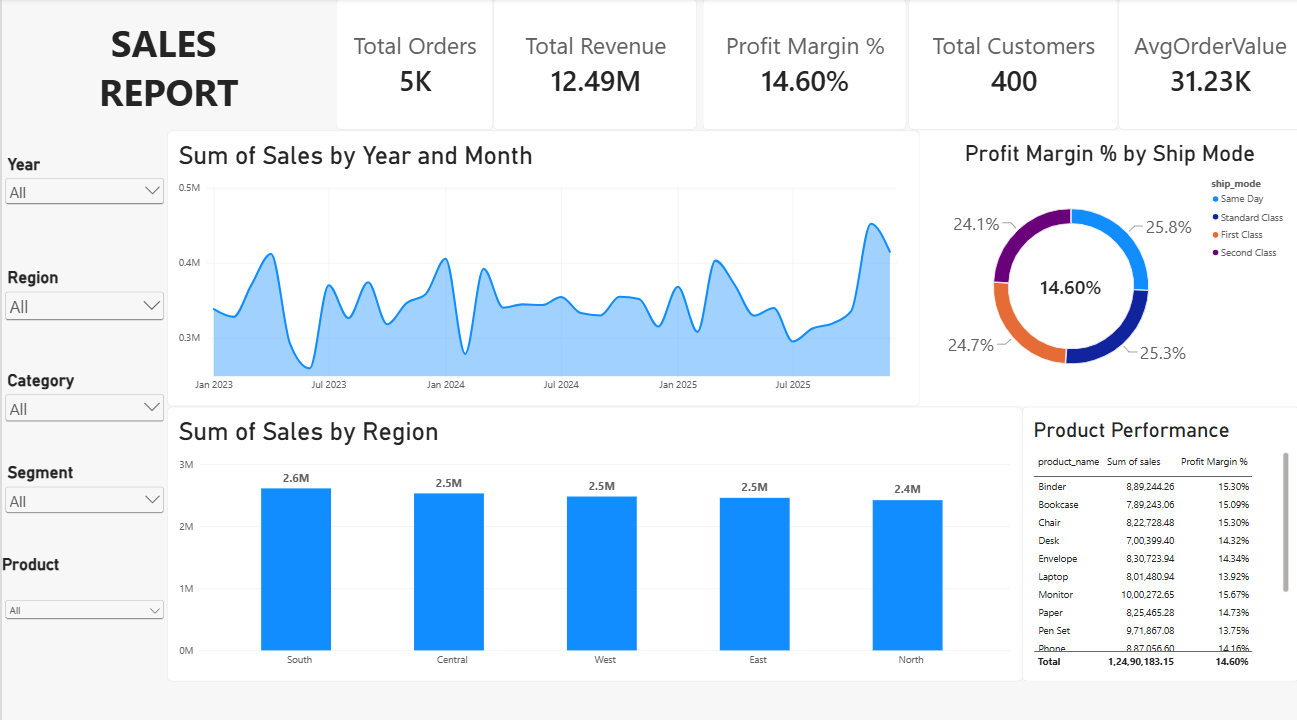

The page's visual inventory and layout, read from the dashboard file:
{"tool":"powerbi","page":{"name":"Sales Dashboard","canvas":[1920,1080],"ordinal":0},"visuals":[{"type":"cardVisual","fields":{"Data":["Sales_db   main   Sales.Total Orders"]},"box":[482.6,0,228.5,191.4],"z":0},{"type":"cardVisual","fields":{"Data":["Sales_db   main   Sales.Total Revenue","Sales_db   main   Sales.Profit Margin %"]},"box":[712,0,599,191.4],"z":1000},{"type":"cardVisual","fields":{"Data":["Sales_db   main   Sales.Total Customers"]},"box":[1311.3,0,304.6,191.8],"z":2000},{"type":"cardVisual","fields":{"Data":["Sales_db   main   Sales.AvgOrderValue"]},"box":[1615.8,0,265.5,191.4],"z":3000},{"type":"stackedAreaChart","title":"Sum of Sales by Year and Month","fields":{"Category":["Sales_db   main   Sales.order_date.Variation.Date Hierarchy.Year","Sales_db   main   Sales.order_date.Variation.Date Hierarchy.Month"],"Y":["Sum(Sales_db   main   Sales.sales)"]},"box":[239.3,191.8,1089.7,399.5],"z":6000},{"type":"donutChart","title":"Profit Margin % by Ship Mode","fields":{"Category":["Sales_db   main   Sales.ship_mode"],"Y":["Sales_db   main   Sales.Profit Margin %"]},"box":[1329.1,191.8,551.8,399.5],"z":7000},{"type":"slicer","title":"Region","fields":{"Values":["Sales_db   main   Sales.region"]},"box":[0,391.6,239.3,199.8],"z":8000},{"type":"slicer","fields":{"Values":["Sales_db   main   Sales.order_date.Variation.Date Hierarchy.Year"]},"box":[0,225.5,239.3,166.1],"z":9000},{"type":"slicer","fields":{"Values":["Sales_db   main   Sales.category"]},"box":[0,539.9,239,200],"z":10000},{"type":"slicer","fields":{"Values":["Sales_db   main   Sales.segment"]},"box":[0,672.4,239.3,132.5],"z":11000},{"type":"clusteredColumnChart","title":"Sum of Sales by Region","fields":{"Category":["Sales_db   main   Sales.region"],"Y":["Sum(Sales_db   main   Sales.sales)"]},"box":[239.3,591.3,1238.1,397.5],"z":12000},{"type":"tableEx","title":"Product Performance","fields":{"Values":["Sales_db   main   Sales.product_name","Sum(Sales_db   main   Sales.sales)","Sales_db   main   Sales.Profit Margin %"]},"box":[1477.4,591.3,403.5,397.5],"z":13000},{"type":"textbox","box":[0,27.7,482.6,164.2],"z":13001},{"type":"slicer","title":"Product ","fields":{"Values":["Sales_db   main   Sales.product_name"]},"box":[0,805,239,184],"z":13002}]}

Visuals, with their boxes in screenshot pixels (x1, y1, x2, y2), scaled from the page's 1920x1080 canvas onto the 1297x720 screenshot:
cardVisual - Sales_db   main   Sales.Total Orders: <box>326,0,480,128</box>
cardVisual - Sales_db   main   Sales.Total Revenue x Sales_db   main   Sales.Profit Margin %: <box>481,0,886,128</box>
cardVisual - Sales_db   main   Sales.Total Customers: <box>886,0,1092,128</box>
cardVisual - Sales_db   main   Sales.AvgOrderValue: <box>1092,0,1271,128</box>
"Sum of Sales by Year and Month" stackedAreaChart: <box>162,128,898,394</box>
"Profit Margin % by Ship Mode" donutChart: <box>898,128,1271,394</box>
"Region" slicer: <box>0,261,162,394</box>
slicer - Sales_db   main   Sales.order_date.Variation.Date Hierarchy.Year: <box>0,150,162,261</box>
slicer - Sales_db   main   Sales.category: <box>0,360,161,493</box>
slicer - Sales_db   main   Sales.segment: <box>0,448,162,537</box>
"Sum of Sales by Region" clusteredColumnChart: <box>162,394,998,659</box>
"Product Performance" tableEx: <box>998,394,1271,659</box>
textbox: <box>0,18,326,128</box>
"Product " slicer: <box>0,537,161,659</box>
